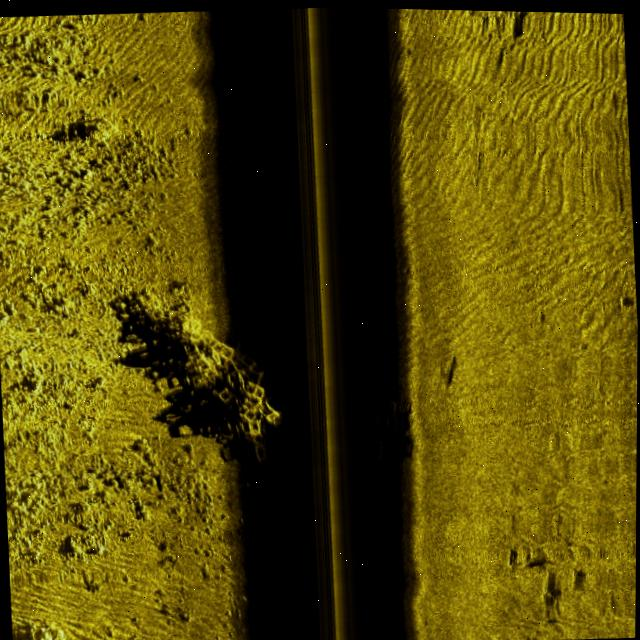artificial reef: (108, 263, 294, 472), (354, 365, 407, 470)
